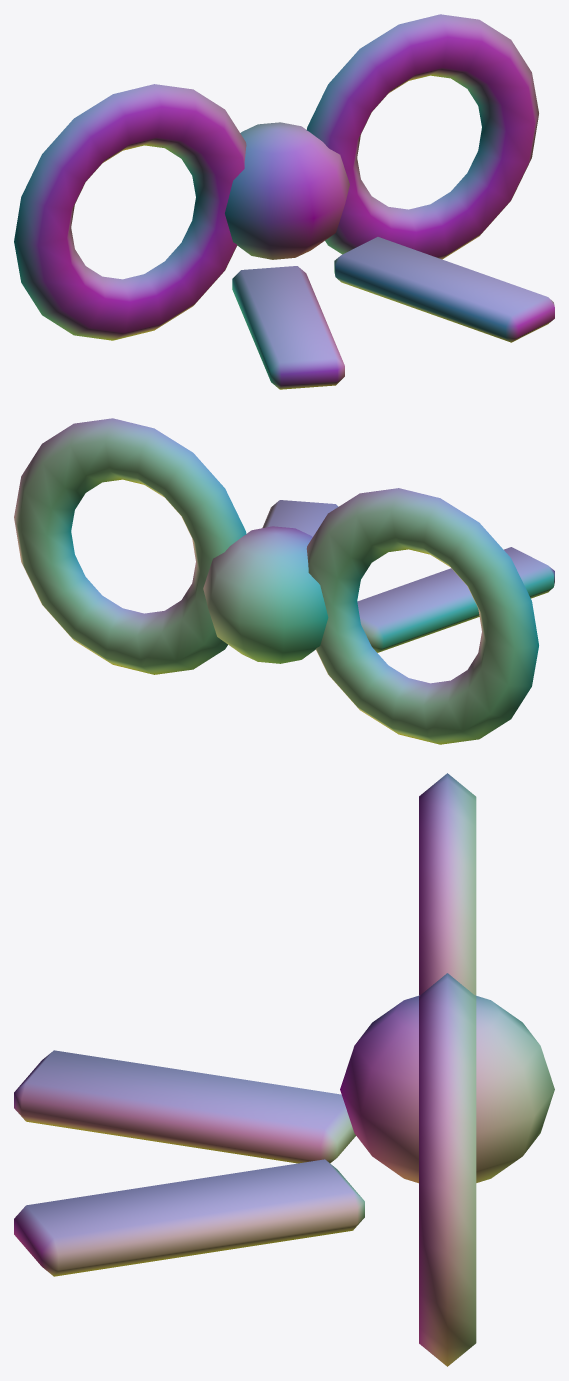
Rendered from env_deco_bow.glb.
3 renders of one model, top to bottom at view 1: azimuth 30°, elevation 25°; view 2: azimuth 150°, elevation 25°; view 3: azimuth 270°, elevation 25°, orthographic. The views are drawn at different scales.
Parts seen in each view (by area): view 1: env_deco_bow_mesh; view 2: env_deco_bow_mesh; view 3: env_deco_bow_mesh.
Boxes of the visible parts, x1,y1,x2,y2 form: env_deco_bow_mesh: (14, 14, 554, 389); env_deco_bow_mesh: (14, 418, 554, 744); env_deco_bow_mesh: (14, 773, 554, 1366).
Size of the model in its own units: 0.404 by 0.1812 by 0.2517.
